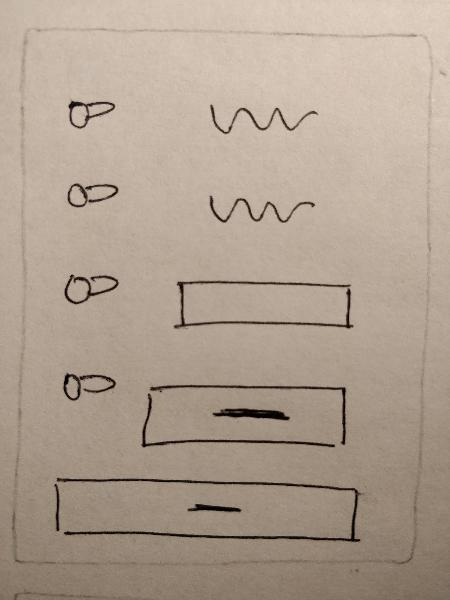button: (45, 470, 367, 551), (135, 376, 356, 460)
switch: (59, 266, 130, 318), (56, 361, 122, 413), (60, 87, 125, 136), (57, 167, 123, 214)
text: (196, 93, 323, 147), (196, 185, 321, 236)
text_input: (166, 270, 364, 345)
